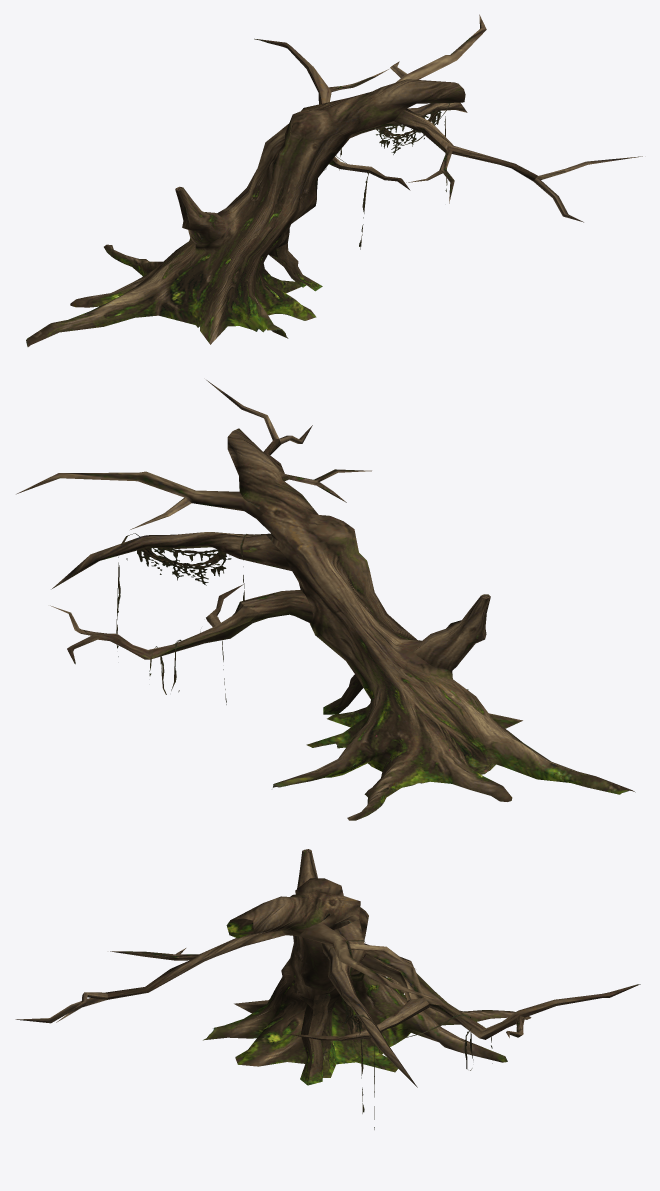
File: zz_shu_3.FBX
3 renders of one model, top to bottom at view 1: azimuth 30°, elevation 25°; view 2: azimuth 150°, elevation 25°; view 3: azimuth 270°, elevation 25°, orthographic. The views are drawn at different scales.
Visible parts, largest first — view 1: zz_shu_3; view 2: zz_shu_3; view 3: zz_shu_3.
Boxes of the visible parts, box(x1,y1,x2,y2) form: zz_shu_3: box(26, 14, 642, 346); zz_shu_3: box(16, 380, 635, 820); zz_shu_3: box(15, 849, 640, 1129).
Size of the model in its own units: 2571 by 977 by 2377.
